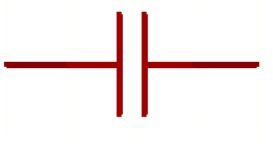Capacitor: (98, 7, 180, 123)
